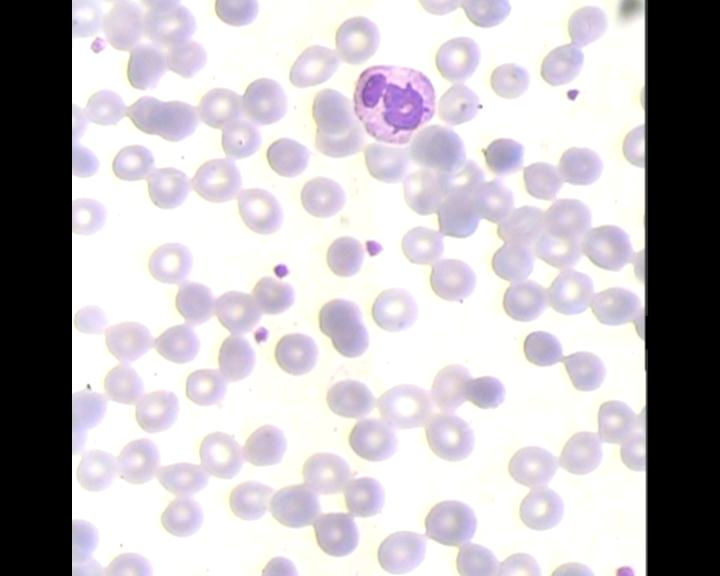neut: (349, 57, 440, 147)
